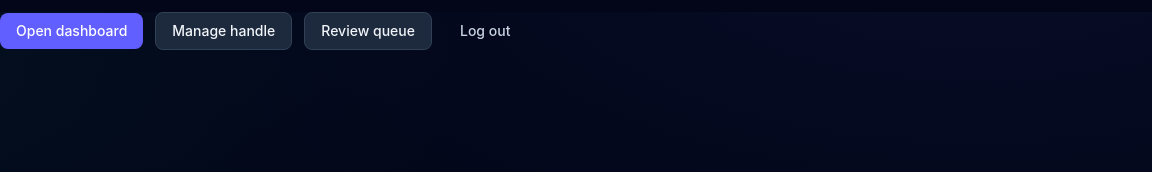
it: SessionActions › logout failure reports an error and stays in the authenticated state
The width and height of the screenshot is (1152, 172).
Expected: the link "Open dashboard" is shown, [0,13,143,49]
Click the button "Log out". click: click(485, 31)
box: [444,13,526,49]
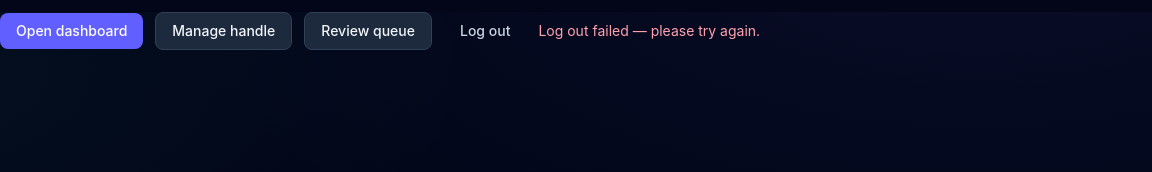
Expected: the link "Open dashboard" is shown, [0,13,143,49]
Expected: the text "Log out failed — please try again." is shown, [538,21,760,41]
